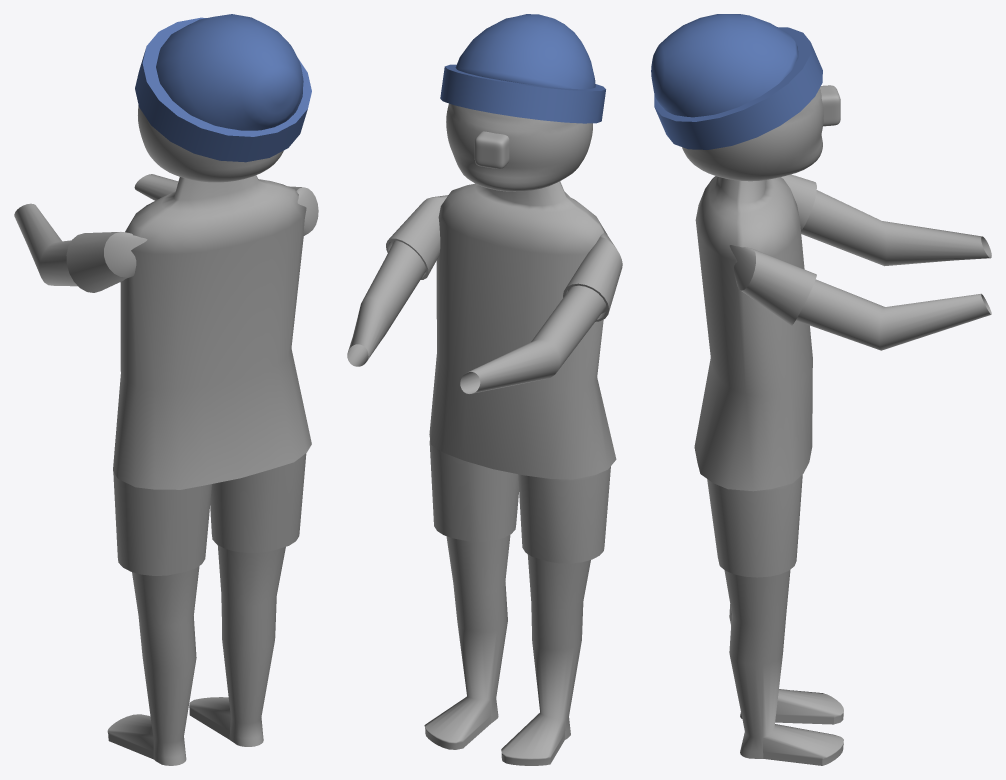
The model's file is Character1.fbx.
The picture shows the model from 3 angles, left to right: view 1: azimuth 30°, elevation 25°; view 2: azimuth 150°, elevation 25°; view 3: azimuth 270°, elevation 25°; orthographic projection. The views are drawn at different scales.
Visible parts, largest first — view 1: pCylinder7; view 2: pCylinder7; view 3: pCylinder7.
Part boxes in pixels (bbox=[...]): pCylinder7: bbox=[14, 14, 318, 765]; pCylinder7: bbox=[347, 14, 622, 765]; pCylinder7: bbox=[651, 14, 991, 765].
Bounding box in the file's own units: 60.29 × 180 × 77.28.
